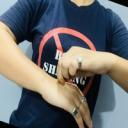hand: (40, 75, 93, 127), (56, 45, 112, 85)
